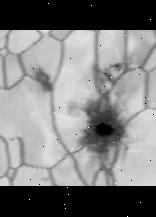good_void: (74, 94, 128, 160), (28, 62, 56, 97), (91, 61, 116, 92), (64, 100, 79, 119), (110, 61, 125, 72), (38, 174, 50, 184)
